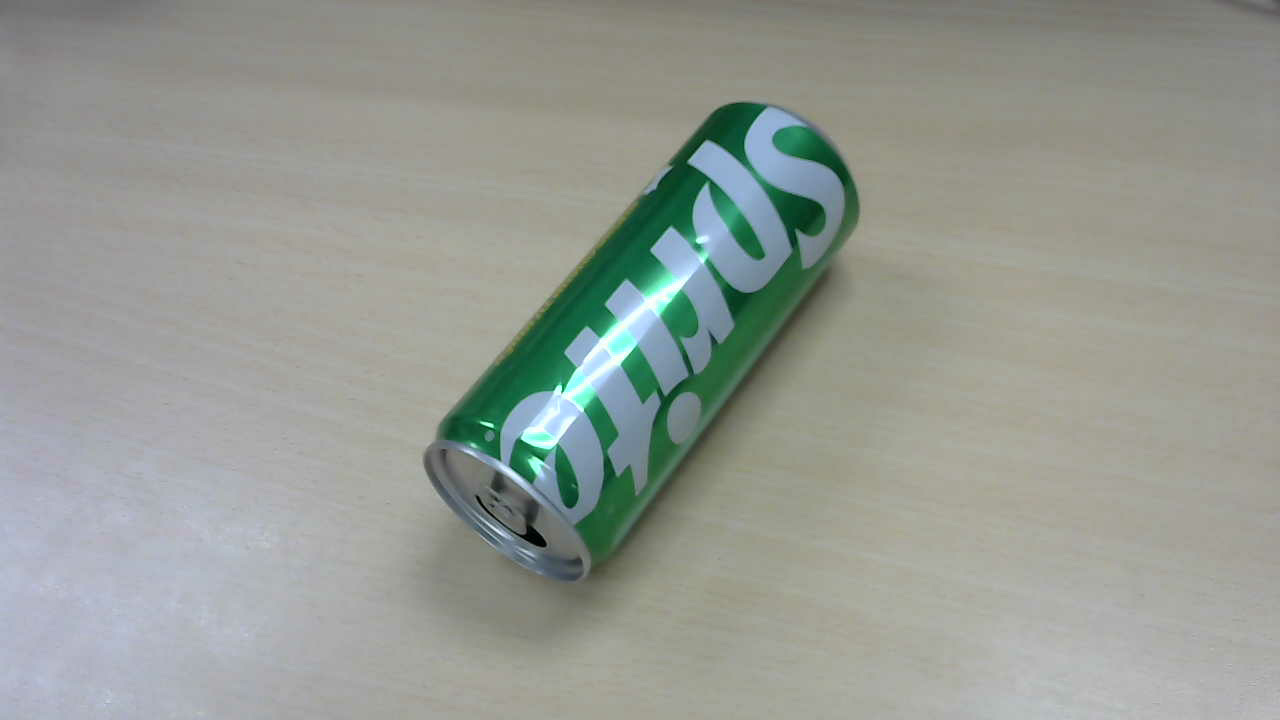Sprite: (441, 104, 869, 597)
